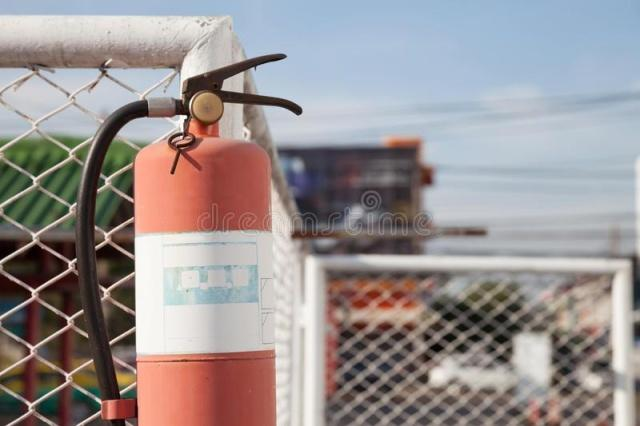APAR: (132, 51, 303, 425)
